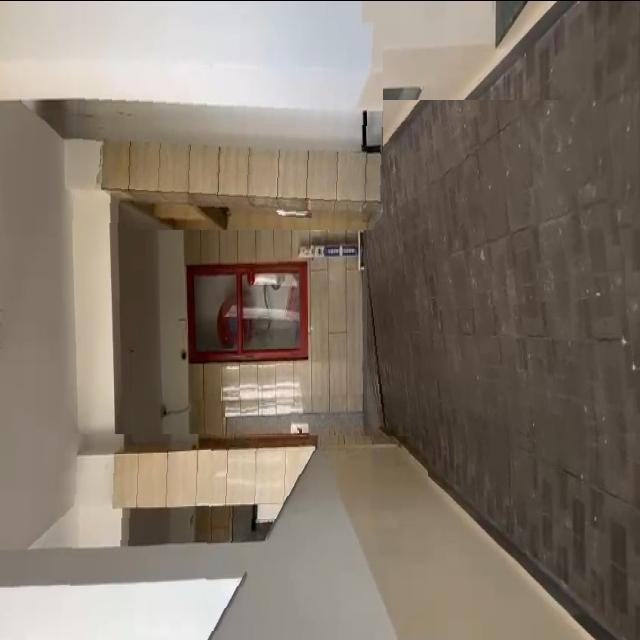floor: (367, 99, 640, 458)
wall: (0, 432, 428, 640), (71, 0, 383, 229)
